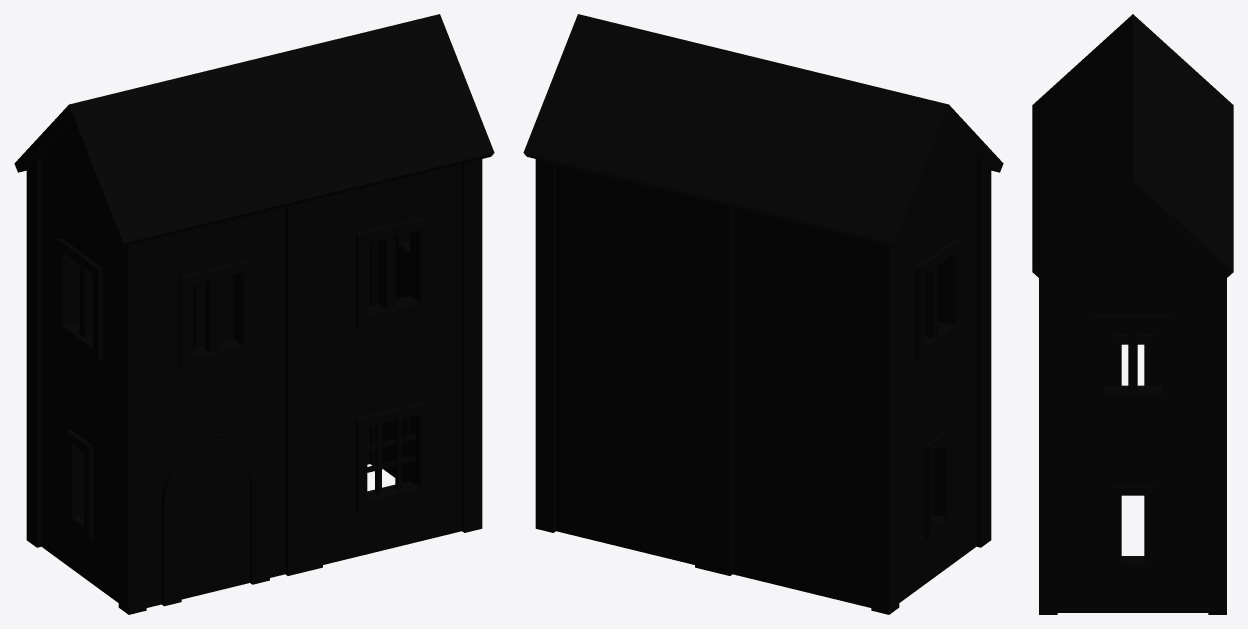
The model's file is house-long-tall.glb.
3 renders of one model, left to right at view 1: azimuth 30°, elevation 25°; view 2: azimuth 150°, elevation 25°; view 3: azimuth 270°, elevation 25°, orthographic. The views are drawn at different scales.
Parts seen in each view (by area): view 1: wall; view 2: wall; view 3: wall.
Boxes of the visible parts, x1,y1,x2,y2 form: wall: (14, 14, 494, 614); wall: (523, 14, 1003, 614); wall: (1032, 14, 1233, 614).
Size of the model in its own units: 2.1 by 2.57 by 1.07.
Materials: 1 (1 with a texture image).
